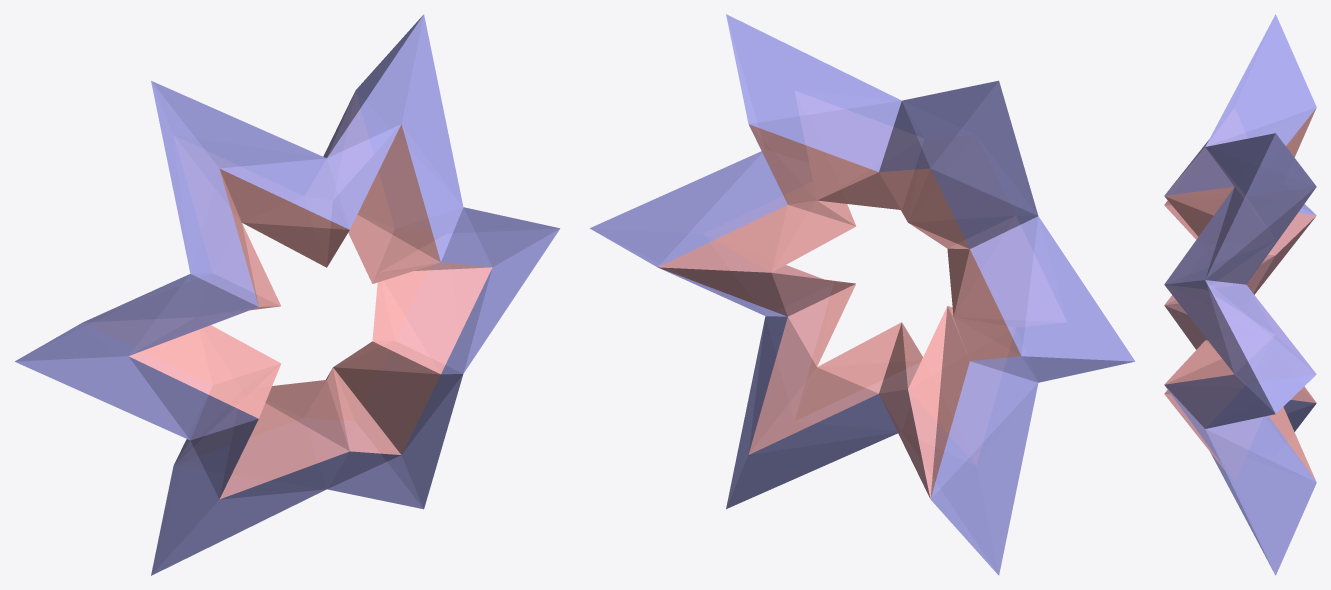
The model's file is Regular6TetragonalStarToroid1.obj.
The picture shows the model from 3 angles, left to right: view 1: azimuth 30°, elevation 25°; view 2: azimuth 150°, elevation 25°; view 3: azimuth 270°, elevation 25°; orthographic projection. The views are drawn at different scales.
Size of the model in its own units: 4.8 by 4.16 by 1.3.
